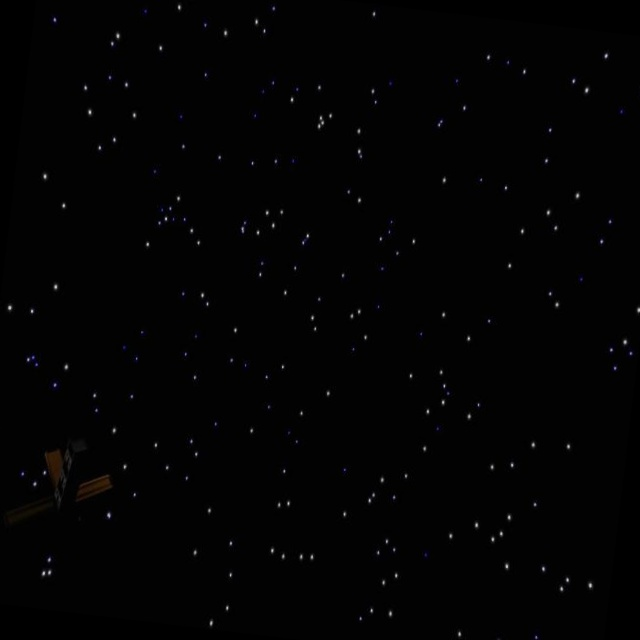medium_debris: (0, 425, 129, 544)
